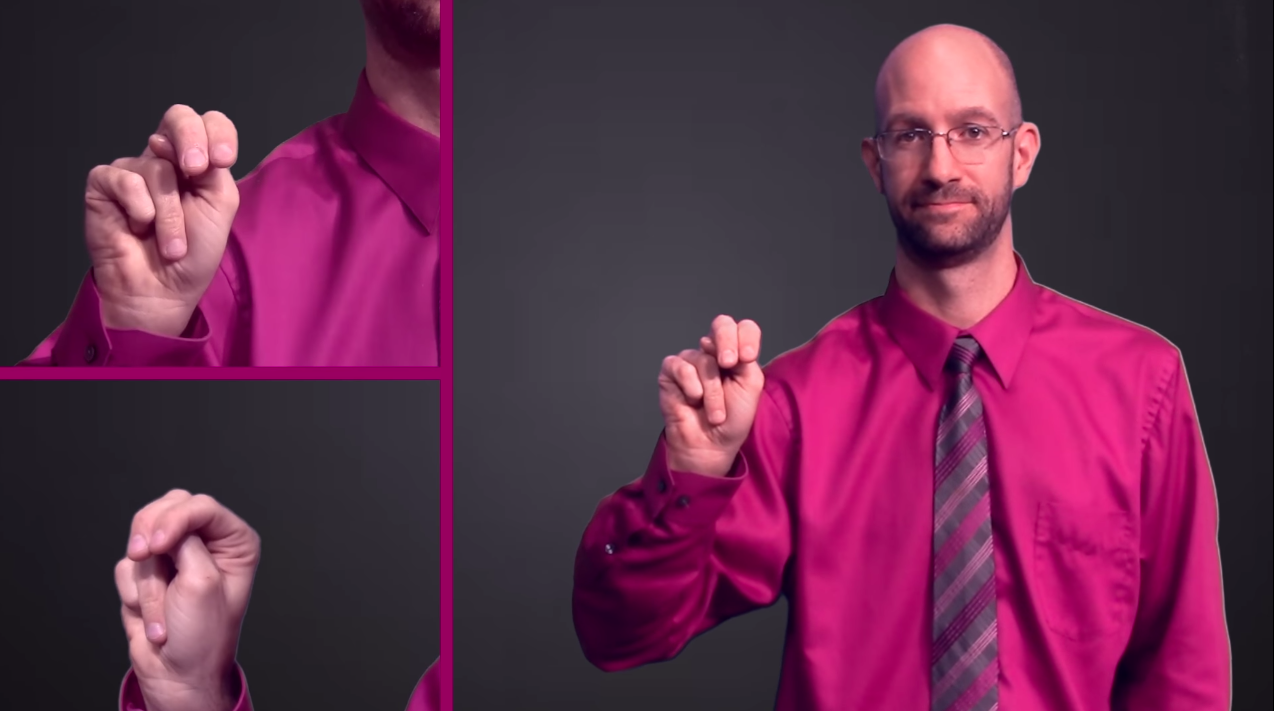n: (62, 82, 264, 320), (90, 474, 279, 711), (637, 294, 774, 485)
